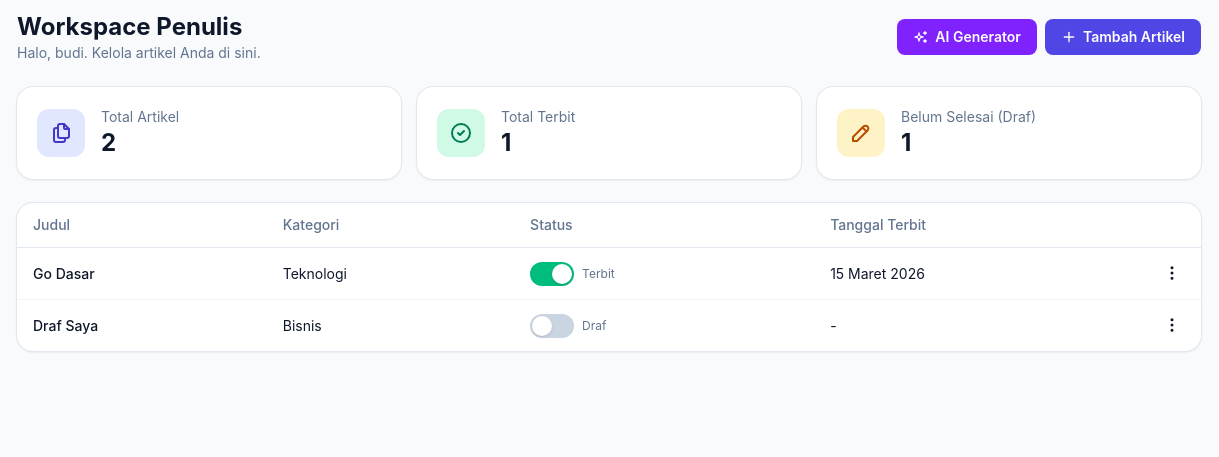
AuthorDashboard menu kebab › draf tidak punya menu Lihat Artikel
Expected: the text "Go Dasar" is shown, [17,248,267,300]
Click the button named "Menu aksi Draf Saya" at (1172, 325), box [1159,312,1185,338]
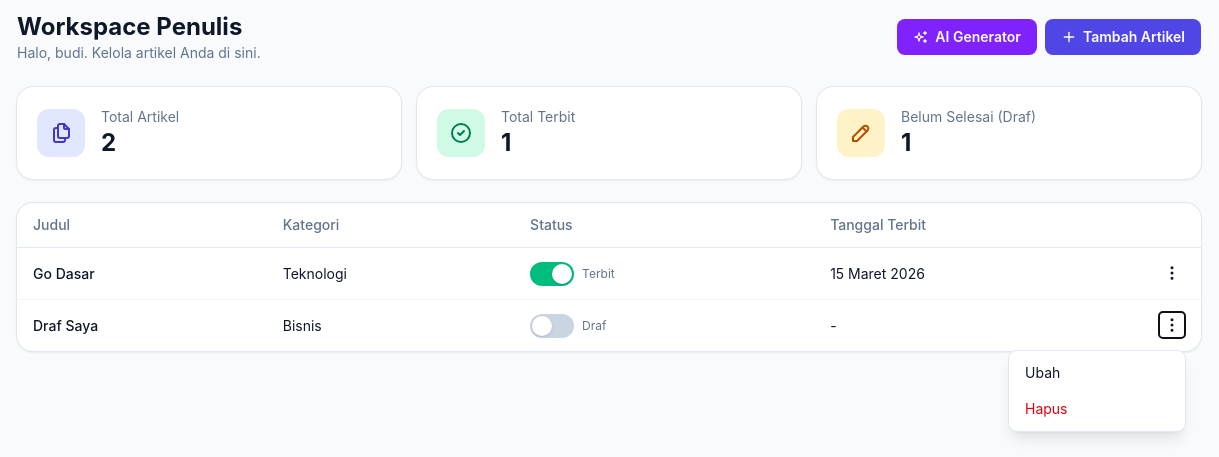
Result: the menu item "Ubah" is shown at [1009,355,1185,391]
